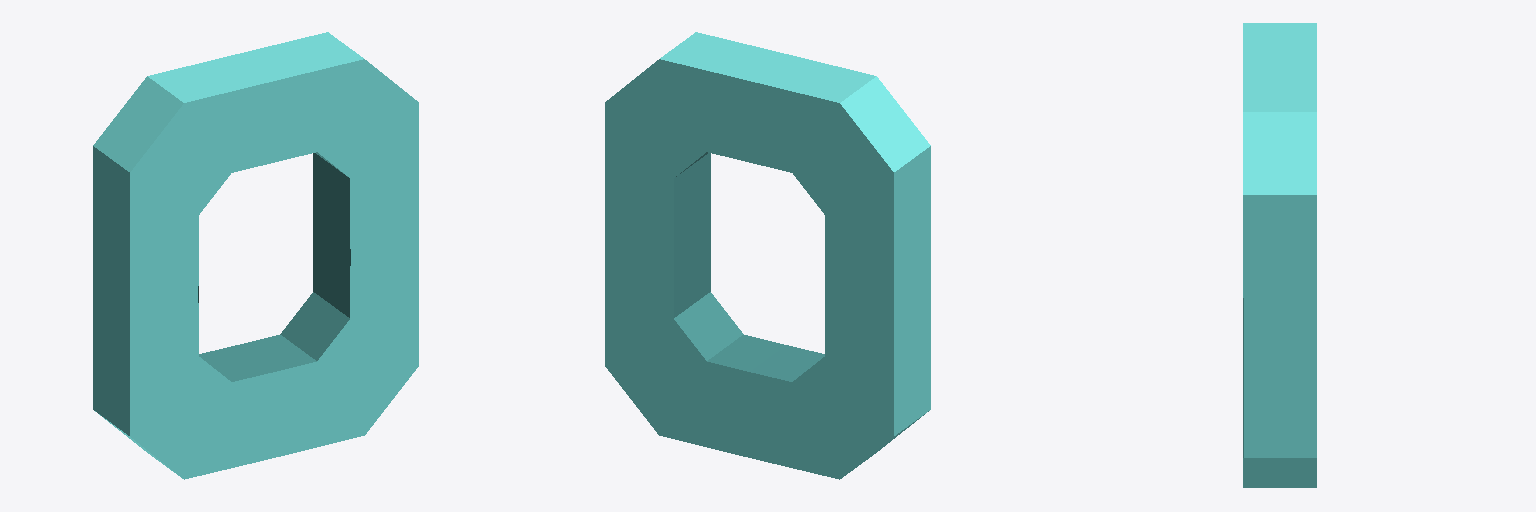
The picture shows the model from 3 angles: view 1: azimuth 30°, elevation 25°; view 2: azimuth 150°, elevation 25°; view 3: azimuth 270°, elevation 25°; orthographic projection.
Visible parts, largest first — view 1: 平面.002; view 2: 平面.002; view 3: 平面.002.
Boxes of the visible parts, x1,y1,x2,y2 form: 平面.002: [93, 32, 418, 479]; 平面.002: [605, 32, 930, 479]; 平面.002: [1243, 23, 1316, 487].
Bounding box in the file's own units: 1.09 × 1.36 × 0.2418.
1 materials, 1 textured.